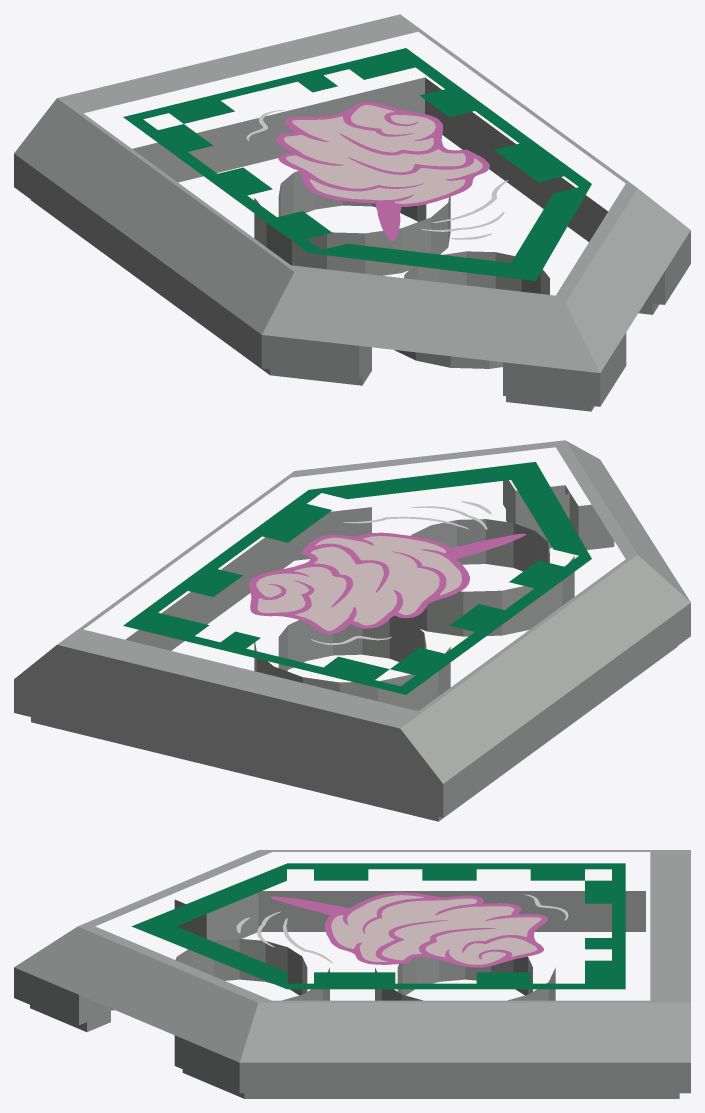
3 renders of one model, top to bottom at view 1: azimuth 30°, elevation 25°; view 2: azimuth 150°, elevation 25°; view 3: azimuth 270°, elevation 25°, orthographic. The views are drawn at different scales.
Parts seen in each view (by area): view 1: world; view 2: world; view 3: world.
Boxes of the visible parts, box(x1,y1,x2,y2) form: world: box(14, 14, 690, 411); world: box(14, 440, 690, 821); world: box(14, 850, 690, 1098).
Bounding box in the file's own units: 0.016 × 0.0032 × 0.024.
